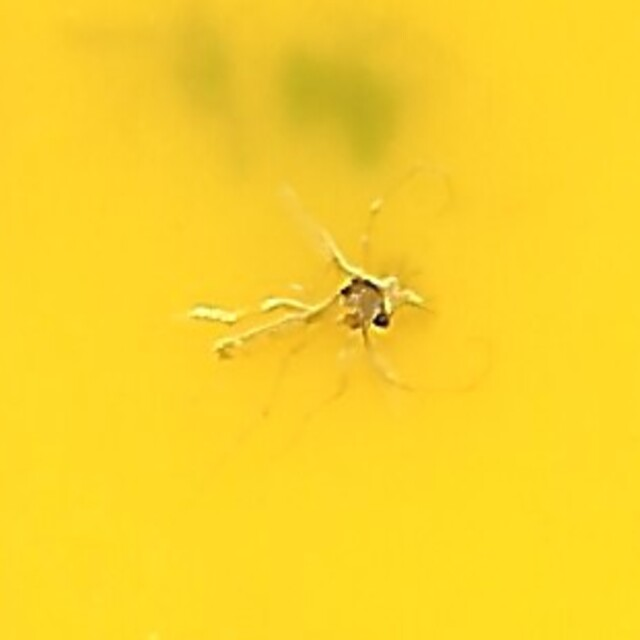Nematocera: (206, 245, 434, 395)
